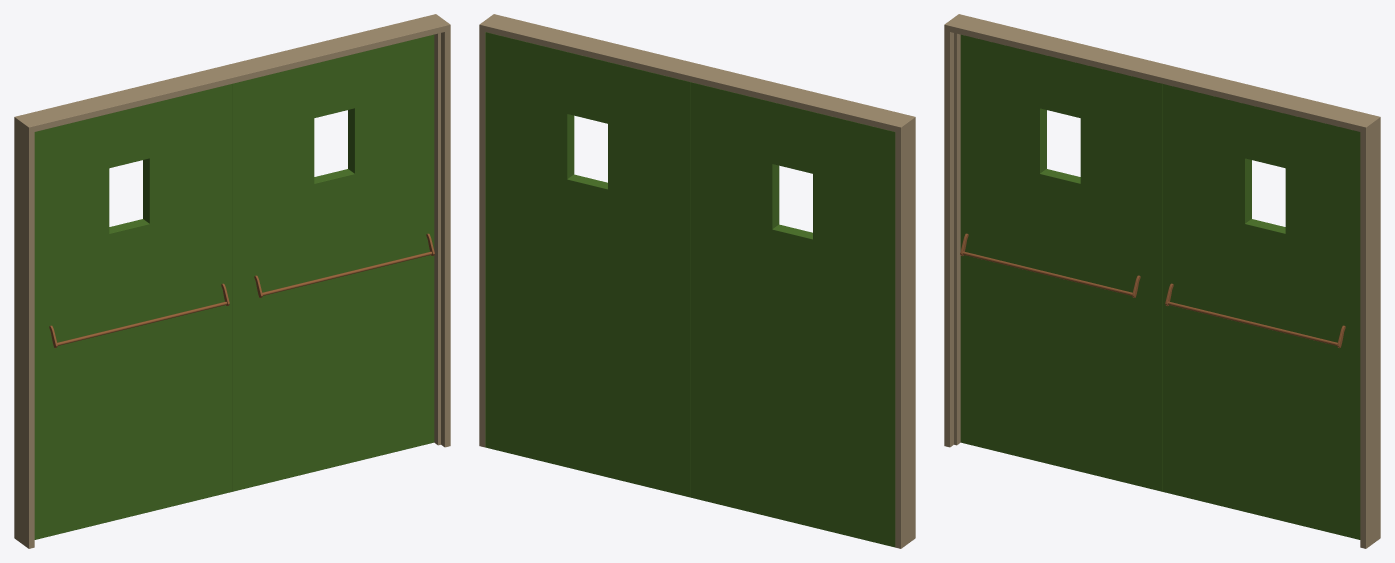
File: exitdoor.glb
3 views of the same model, side by side, from view 1: azimuth 30°, elevation 25°; view 2: azimuth 150°, elevation 25°; view 3: azimuth 330°, elevation 25° (orthographic).
Parts seen in each view (by area): view 1: SingleDoor_Type_Tall.025_EmerganceyDouble_Door_Color_2_0, SingleDoor_Type_Tall.024_EmerganceyDouble_Door_Color_2_0, SingleDoor_Type_Tall.023_DoubleDoor_Frame_Color_Type_1_0, Emergancey_Door_Handel.000_Emergancey_Door_Handel_Color_0, Emergancey_Door_Handel.001_Emergancey_Door_Handel_Color_0; view 2: SingleDoor_Type_Tall.024_EmerganceyDouble_Door_Color_2_0, SingleDoor_Type_Tall.025_EmerganceyDouble_Door_Color_2_0, SingleDoor_Type_Tall.023_DoubleDoor_Frame_Color_Type_1_0; view 3: SingleDoor_Type_Tall.024_EmerganceyDouble_Door_Color_2_0, SingleDoor_Type_Tall.025_EmerganceyDouble_Door_Color_2_0, SingleDoor_Type_Tall.023_DoubleDoor_Frame_Color_Type_1_0, Emergancey_Door_Handel.001_Emergancey_Door_Handel_Color_0, Emergancey_Door_Handel.000_Emergancey_Door_Handel_Color_0.
Boxes of the visible parts, x1,y1,x2,y2 form: SingleDoor_Type_Tall.025_EmerganceyDouble_Door_Color_2_0: (232, 34, 434, 491); SingleDoor_Type_Tall.024_EmerganceyDouble_Door_Color_2_0: (34, 84, 231, 539); SingleDoor_Type_Tall.023_DoubleDoor_Frame_Color_Type_1_0: (14, 14, 450, 548); Emergancey_Door_Handel.000_Emergancey_Door_Handel_Color_0: (254, 233, 434, 297); Emergancey_Door_Handel.001_Emergancey_Door_Handel_Color_0: (49, 283, 229, 347); SingleDoor_Type_Tall.024_EmerganceyDouble_Door_Color_2_0: (690, 82, 895, 547); SingleDoor_Type_Tall.025_EmerganceyDouble_Door_Color_2_0: (485, 32, 690, 497); SingleDoor_Type_Tall.023_DoubleDoor_Frame_Color_Type_1_0: (479, 14, 915, 548); SingleDoor_Type_Tall.024_EmerganceyDouble_Door_Color_2_0: (960, 34, 1162, 491); SingleDoor_Type_Tall.025_EmerganceyDouble_Door_Color_2_0: (1163, 84, 1360, 539); SingleDoor_Type_Tall.023_DoubleDoor_Frame_Color_Type_1_0: (944, 14, 1380, 548); Emergancey_Door_Handel.001_Emergancey_Door_Handel_Color_0: (960, 233, 1140, 297); Emergancey_Door_Handel.000_Emergancey_Door_Handel_Color_0: (1165, 283, 1345, 347).
Size of the model in its own units: 21.99 by 21 by 1.83.
